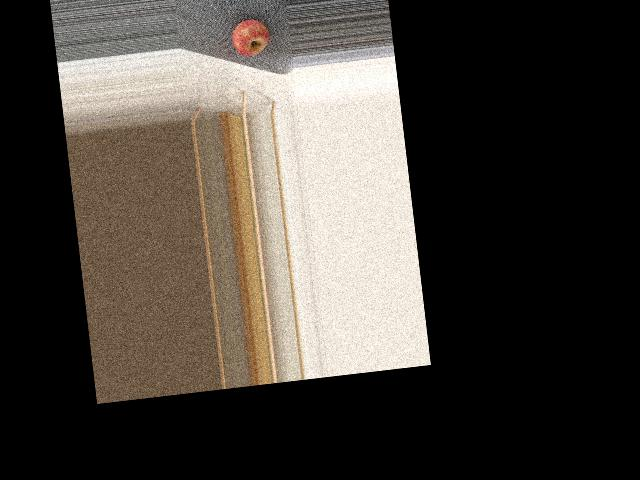apple: (229, 14, 274, 59)
